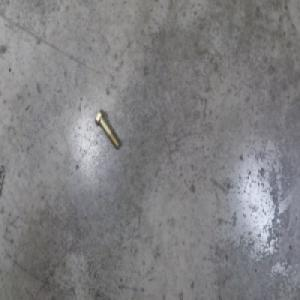Bolt: (94, 109, 120, 151)
